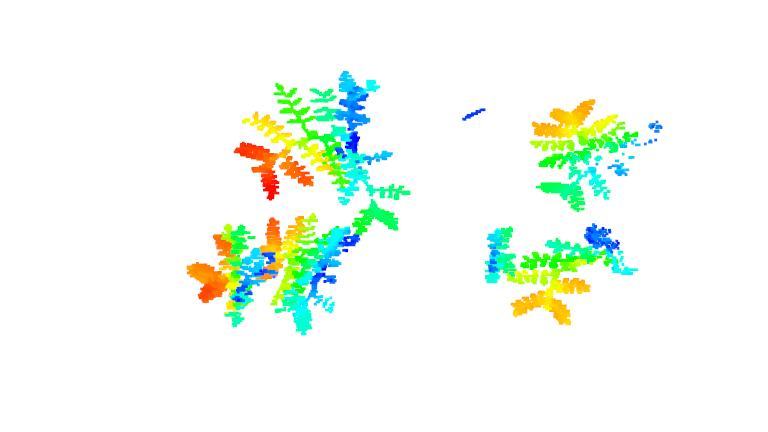chickpea: (334, 60, 431, 235), (513, 221, 637, 341), (526, 96, 636, 215), (233, 66, 332, 187), (251, 213, 342, 330), (172, 220, 272, 324), (470, 221, 528, 281)
